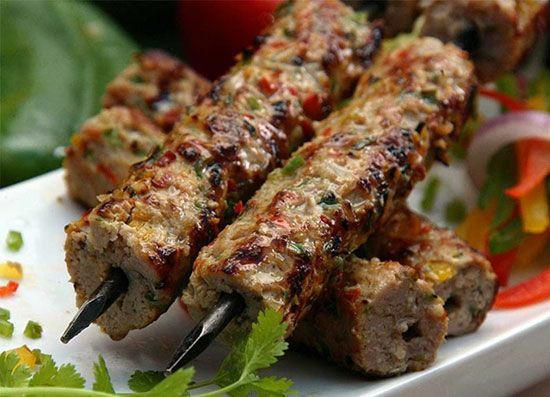Kebab: (100, 51, 497, 338), (66, 0, 383, 342), (67, 107, 447, 371), (185, 36, 478, 355)
